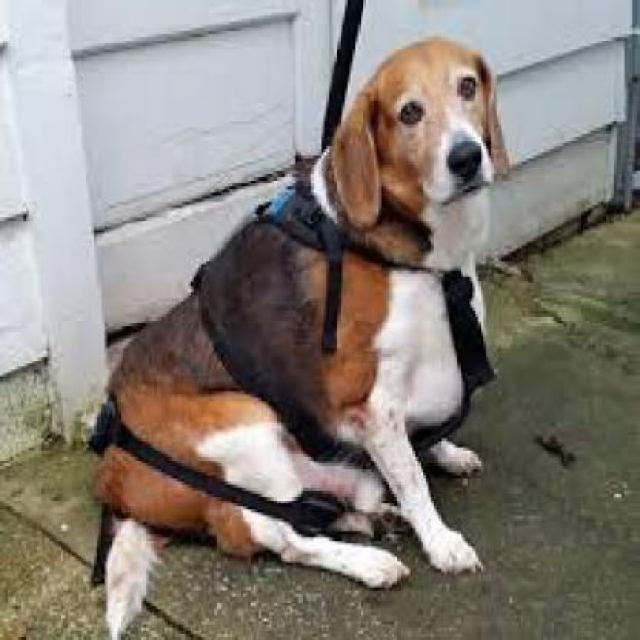Dog: (91, 36, 517, 638)
